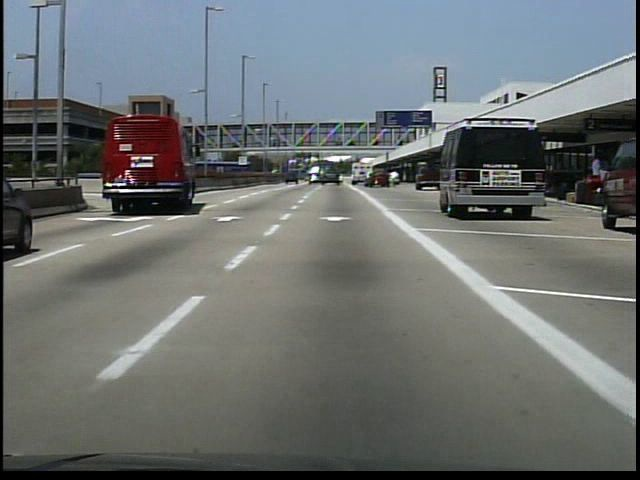person: (388, 168, 402, 191)
